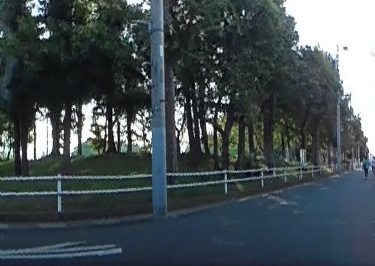person: (361, 153, 370, 176), (371, 154, 375, 174)
